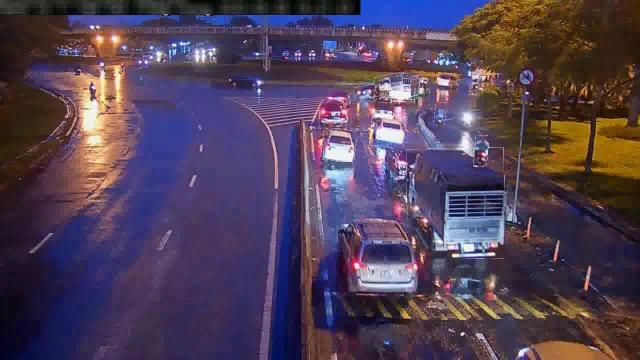Bike: (475, 135, 489, 167), (434, 102, 446, 126)
Car: (336, 219, 424, 298), (370, 115, 406, 148), (322, 128, 356, 162), (319, 98, 346, 127), (374, 74, 404, 93), (354, 85, 380, 99), (437, 73, 457, 85)
Truck: (407, 148, 505, 260)
